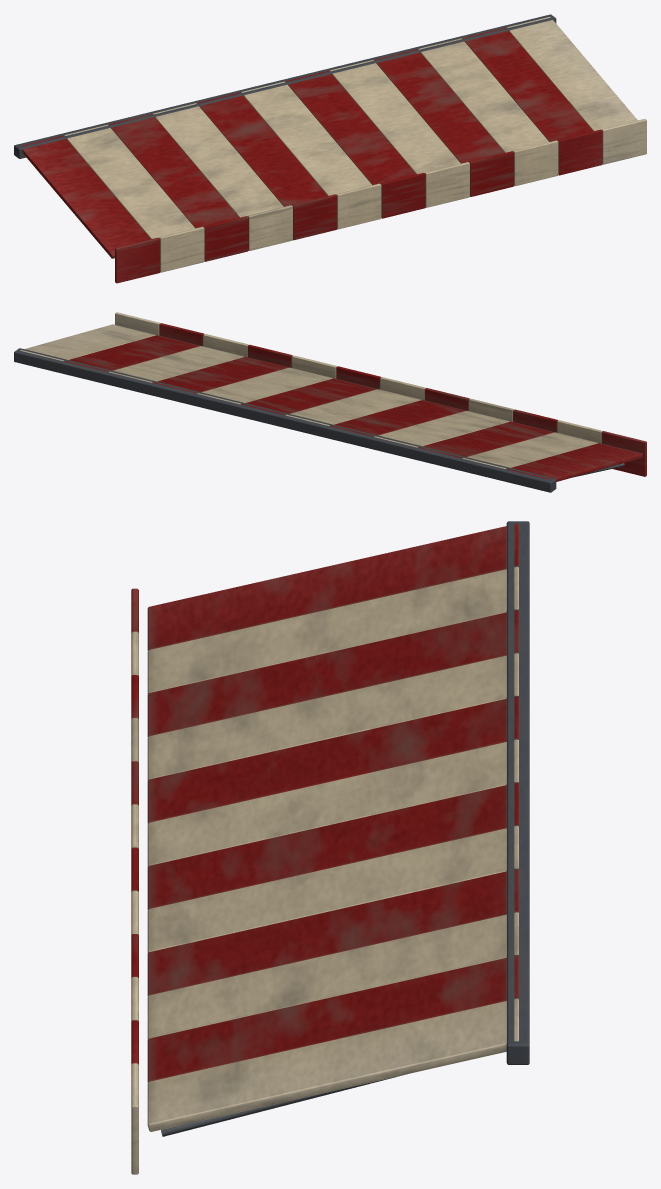
Rendered from sklep_markiza_a.glb.
The picture shows the model from 3 angles, top to bottom: view 1: azimuth 30°, elevation 25°; view 2: azimuth 150°, elevation 25°; view 3: azimuth 270°, elevation 25°; orthographic projection. The views are drawn at different scales.
Parts seen in each view (by area): view 1: Markiza; view 2: Markiza; view 3: Markiza.
Part boxes in pixels (x1=…): Markiza: x1=14, y1=14, x2=646, y2=283; Markiza: x1=14, y1=312, x2=646, y2=492; Markiza: x1=131, y1=521, x2=529, y2=1174.
Size of the model in its own units: 3.24 by 0.3871 by 1.04.
Materials: 1 (1 with a texture image).
